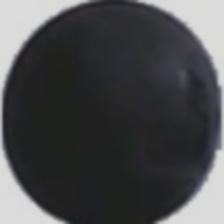grapes: (10, 39, 199, 201)
